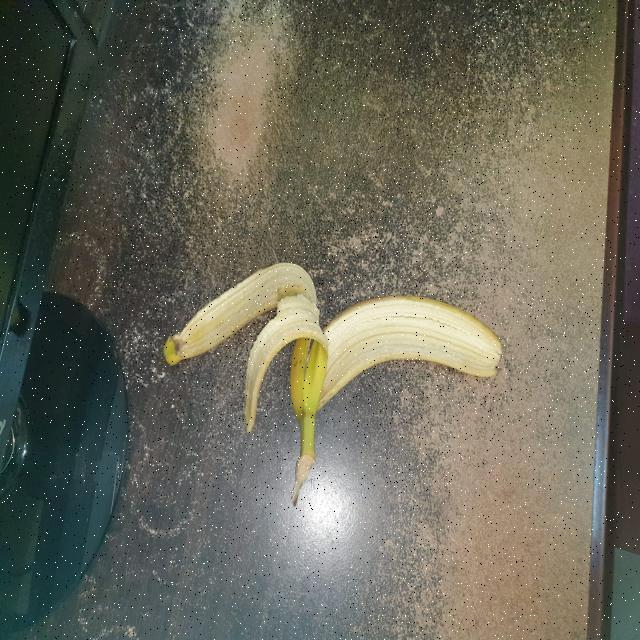banana-peel: (162, 260, 503, 506)
